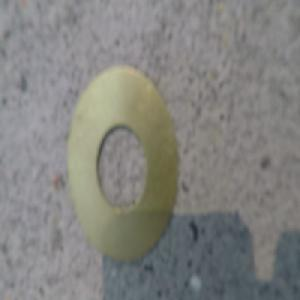Washer: (68, 66, 180, 267)
